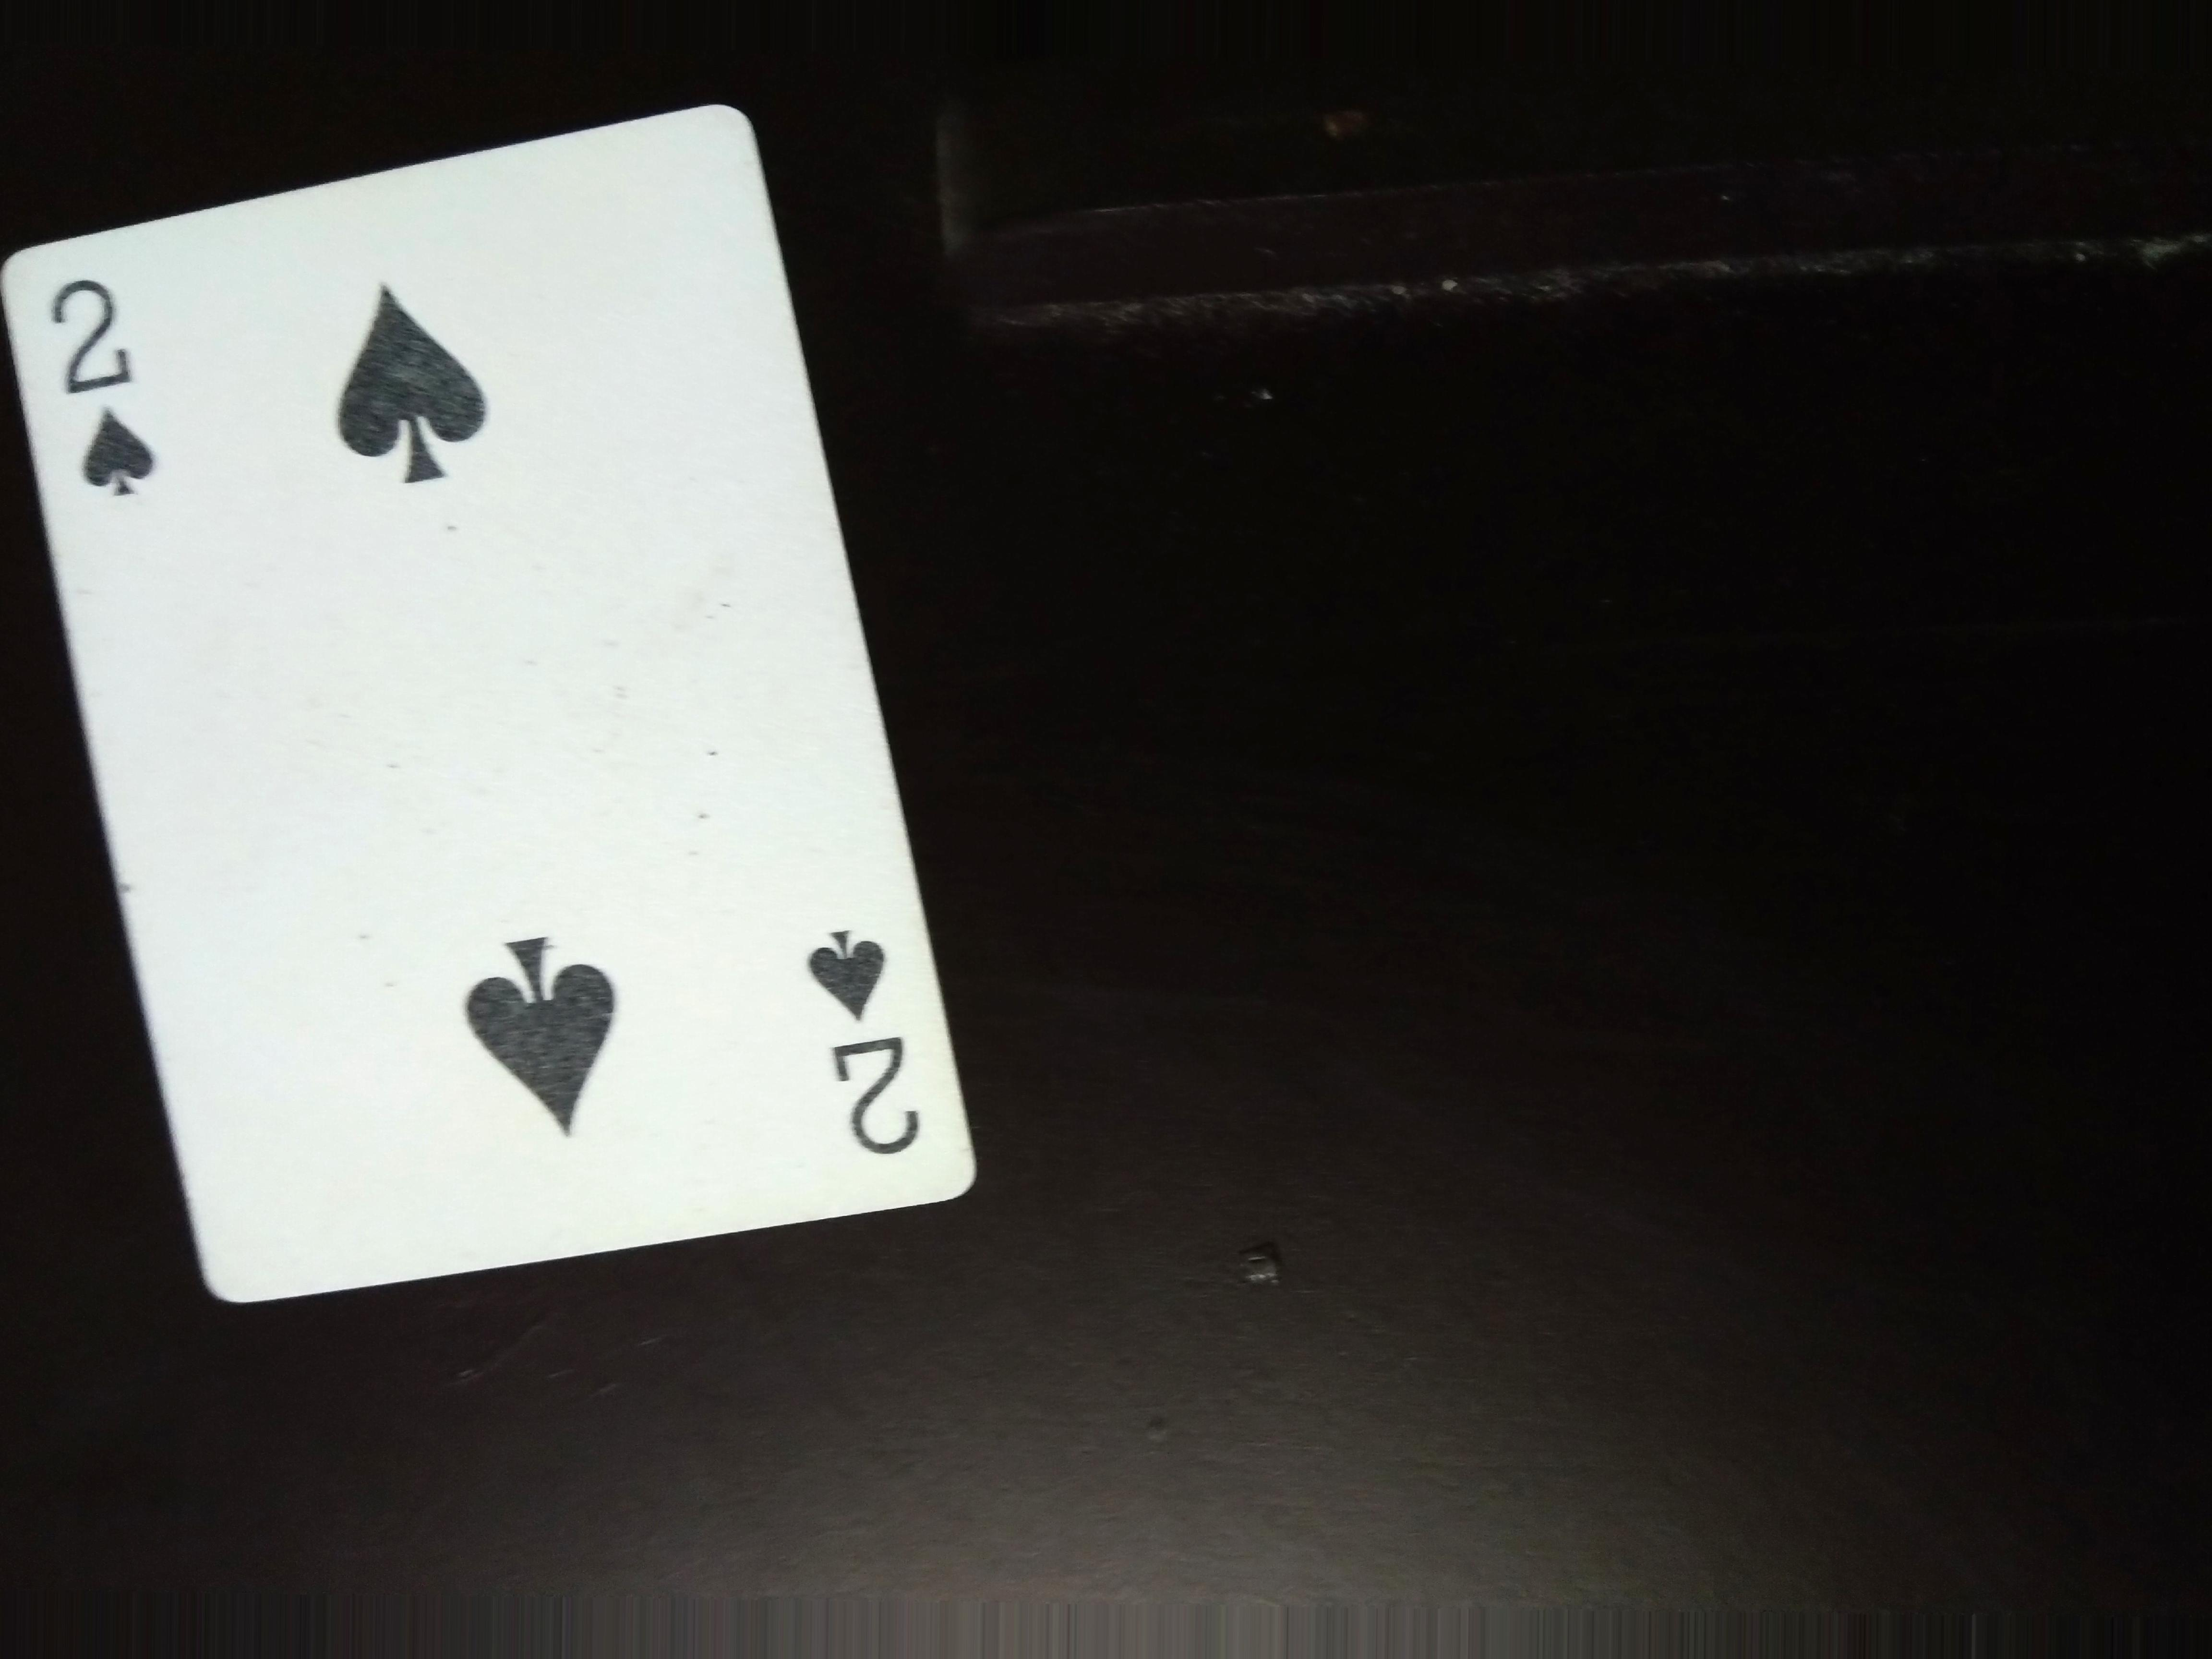2S: (35, 260, 185, 511)
